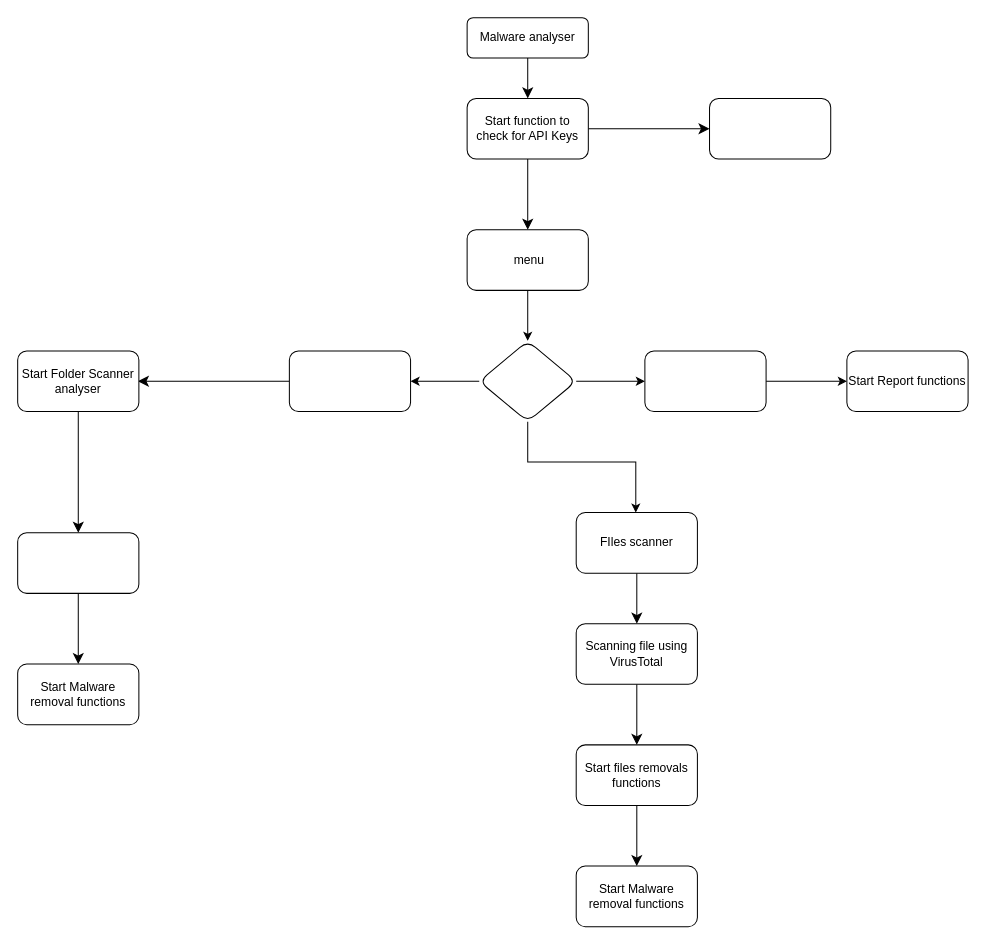
Image size: 986x944. Some labels were removed from this diagram. The shapes that lost their labels are listed below. From the top down, each one's centre as x and y in pixels, then its label:
At (770,128): "Store it in env".
At (349,381): "Folder Scanner".
At (527,381): "Select a Tools".
At (705,381): "Generate report functions".
At (78,562): "Scanning each folder using VirusTotal".
